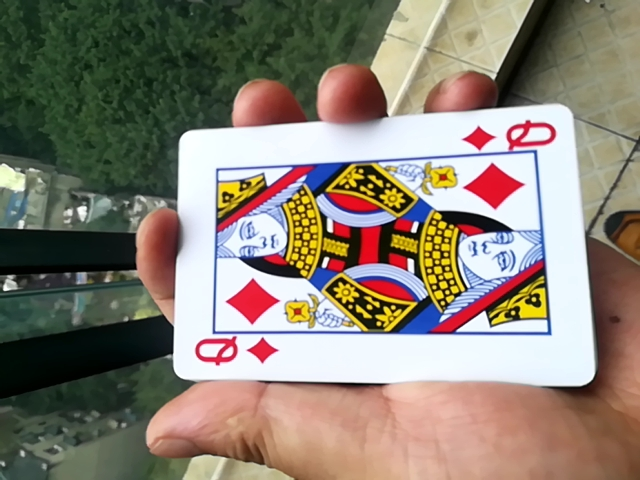fk q: (149, 112, 603, 389)
